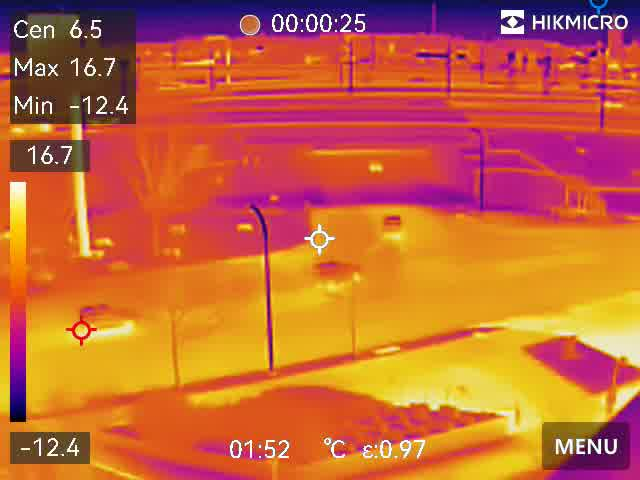vehicle: (74, 307, 143, 338), (308, 256, 362, 288), (379, 210, 403, 244), (364, 158, 387, 176)
